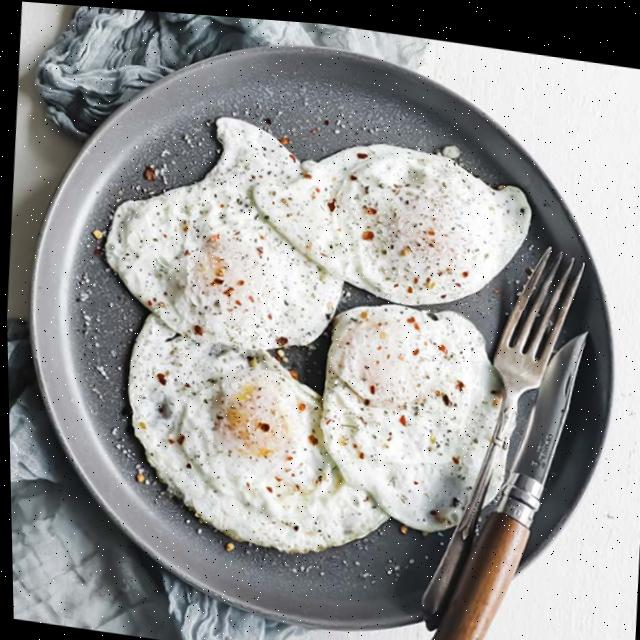Egg: (126, 312, 386, 547), (104, 113, 341, 346), (319, 298, 500, 525), (324, 138, 530, 298)
